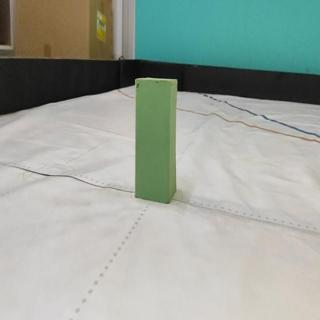greenbox: (135, 78, 178, 205)
